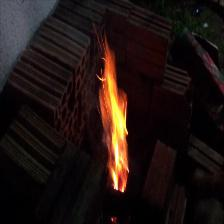fire: (96, 39, 135, 196)
